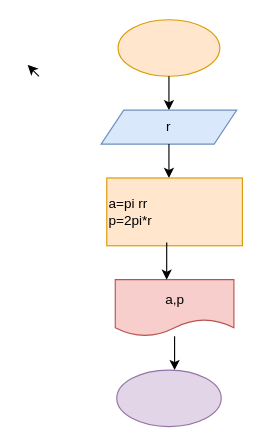
This 262x446 diagram has some shape labels left out. The box of each missing label's shape, as (x1, y1, x2, y2) in pixels:
fin: (116, 369, 221, 427)
inicio: (117, 19, 220, 76)
